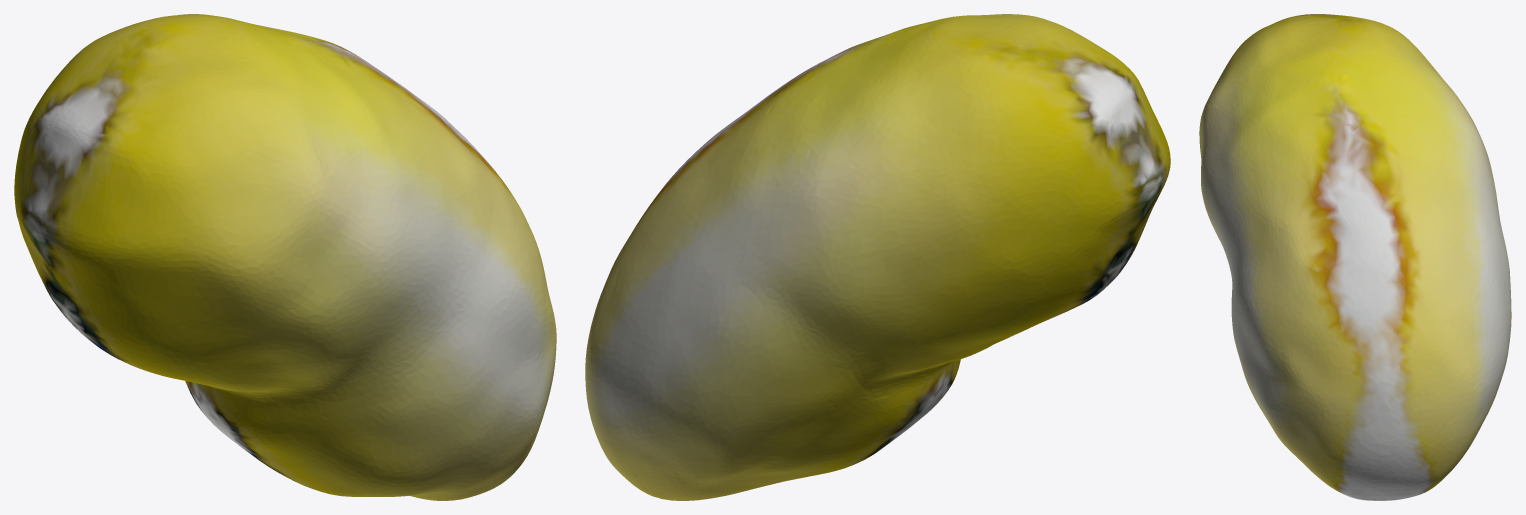
Rendered from nugget_lar.glb.
3 views of the same model, side by side, from view 1: azimuth 30°, elevation 25°; view 2: azimuth 150°, elevation 25°; view 3: azimuth 270°, elevation 25° (orthographic). The views are drawn at different scales.
Visible parts, largest first — view 1: geometry_0; view 2: geometry_0; view 3: geometry_0.
Boxes of the visible parts, x1,y1,x2,y2 form: geometry_0: (14, 14, 556, 500); geometry_0: (585, 14, 1170, 500); geometry_0: (1199, 14, 1511, 500).
Bounding box in the file's own units: 0.5531 × 0.5312 × 0.4037.
